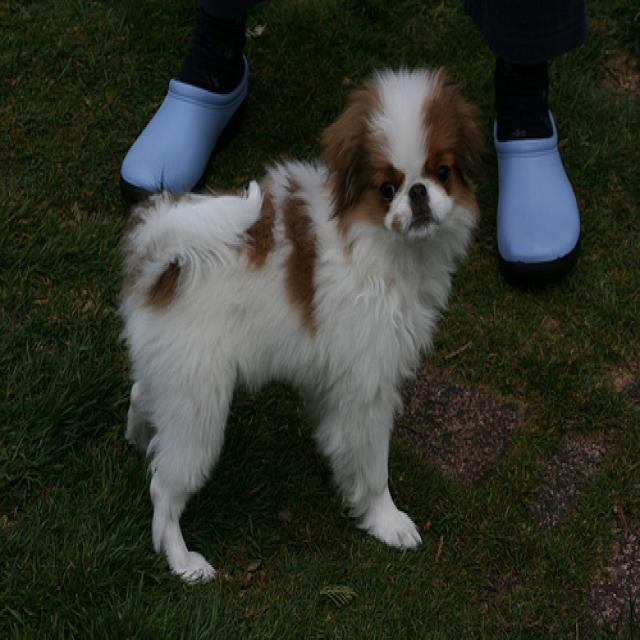dog-japanese_chin: (111, 58, 492, 588)
